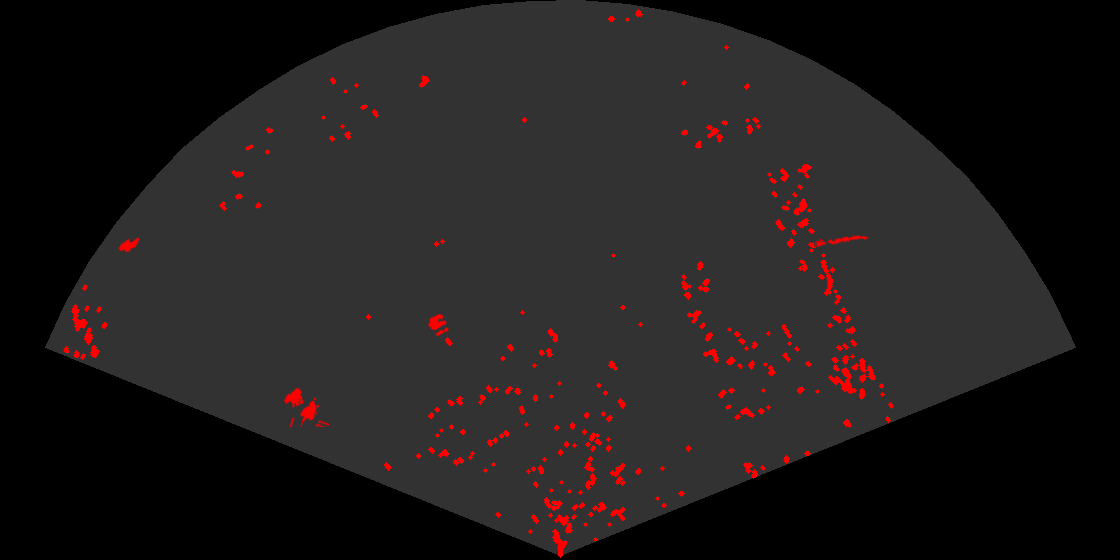AUV: (117, 236, 141, 254)
ball: (426, 312, 451, 338)
cage: (282, 386, 329, 427)
chain: (814, 234, 869, 248)
